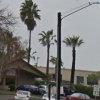Palm tree: (13, 1, 83, 73)
